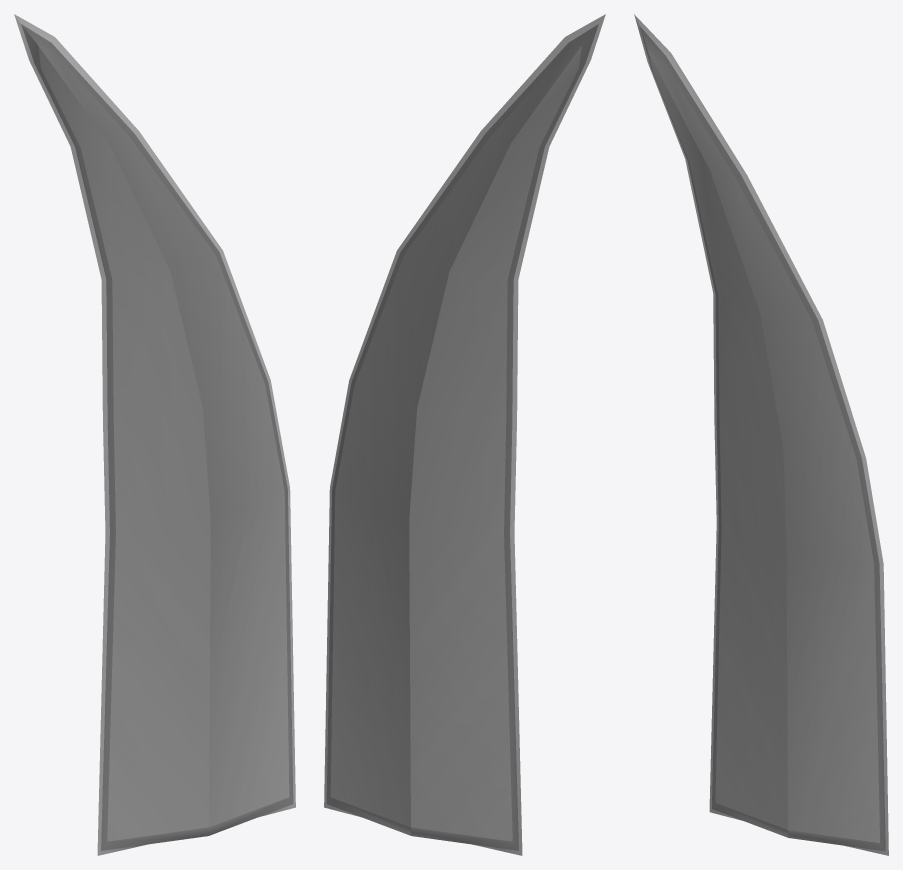
File: stone_blade (12).glb
3 renders of one model, left to right at view 1: azimuth 30°, elevation 25°; view 2: azimuth 150°, elevation 25°; view 3: azimuth 330°, elevation 25°, orthographic. The views are drawn at different scales.
Visible parts, largest first — view 1: stone_blade_unscratched.032; view 2: stone_blade_unscratched.032; view 3: stone_blade_unscratched.032.
Boxes of the visible parts, left/top/right/bottom form: stone_blade_unscratched.032: left=14, top=14, right=295, bottom=855; stone_blade_unscratched.032: left=324, top=14, right=605, bottom=855; stone_blade_unscratched.032: left=634, top=14, right=888, bottom=855.
Bounding box in the file's own units: 4.2 × 12.29 × 0.7262.
1 material, 1 textured.
